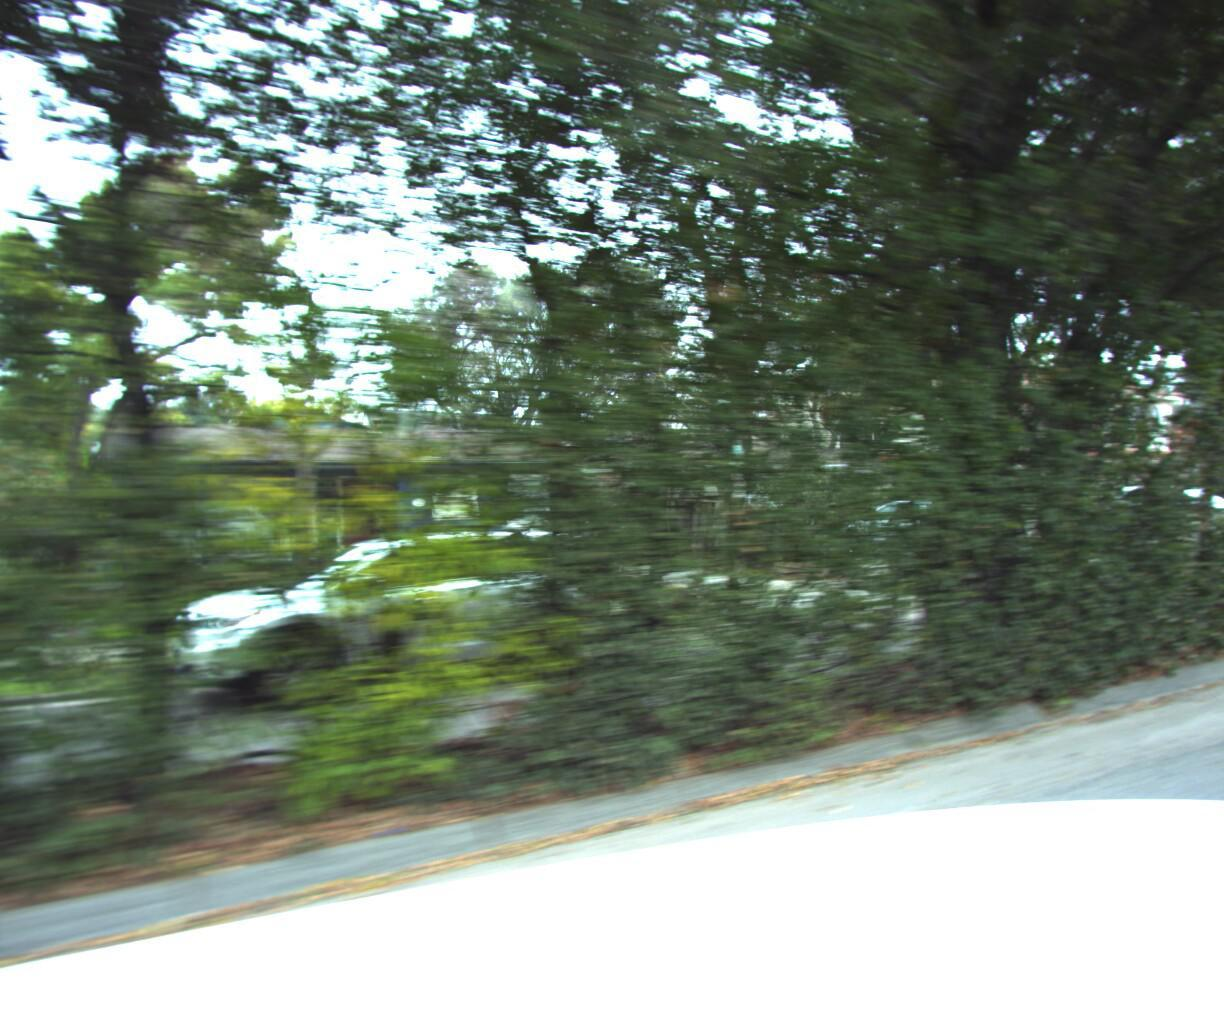car: (160, 517, 621, 737)
